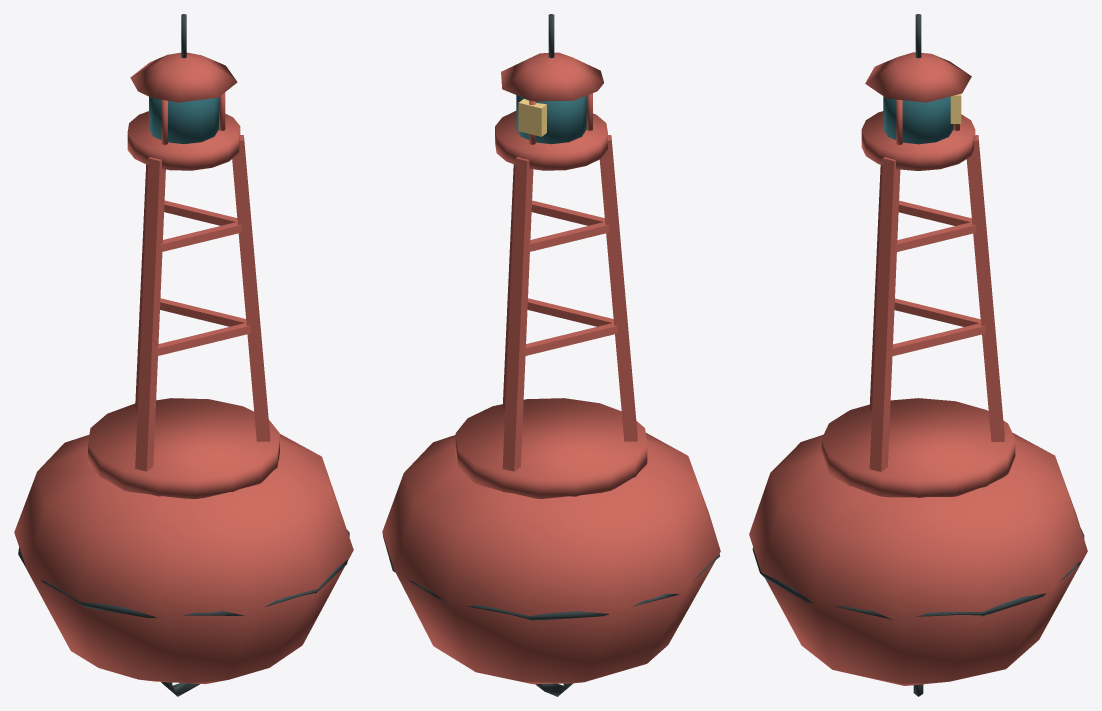
Rendered from ENV_NavigationBuoy_LOD1.fbx.
The picture shows the model from 3 angles, left to right: view 1: azimuth 30°, elevation 25°; view 2: azimuth 150°, elevation 25°; view 3: azimuth 270°, elevation 25°; orthographic projection.
Parts seen in each view (by area): view 1: ENV_NavigationBuoy_Root_Visual; view 2: ENV_NavigationBuoy_Root_Visual, BuoyAmberOptic; view 3: ENV_NavigationBuoy_Root_Visual.
Boxes of the visible parts, x1,y1,x2,y2 form: ENV_NavigationBuoy_Root_Visual: (14,14,353,696); ENV_NavigationBuoy_Root_Visual: (382,14,720,696); BuoyAmberOptic: (518,99,546,136); ENV_NavigationBuoy_Root_Visual: (749,14,1087,696).
Bounding box in the file's own units: 140 × 310 × 140.
